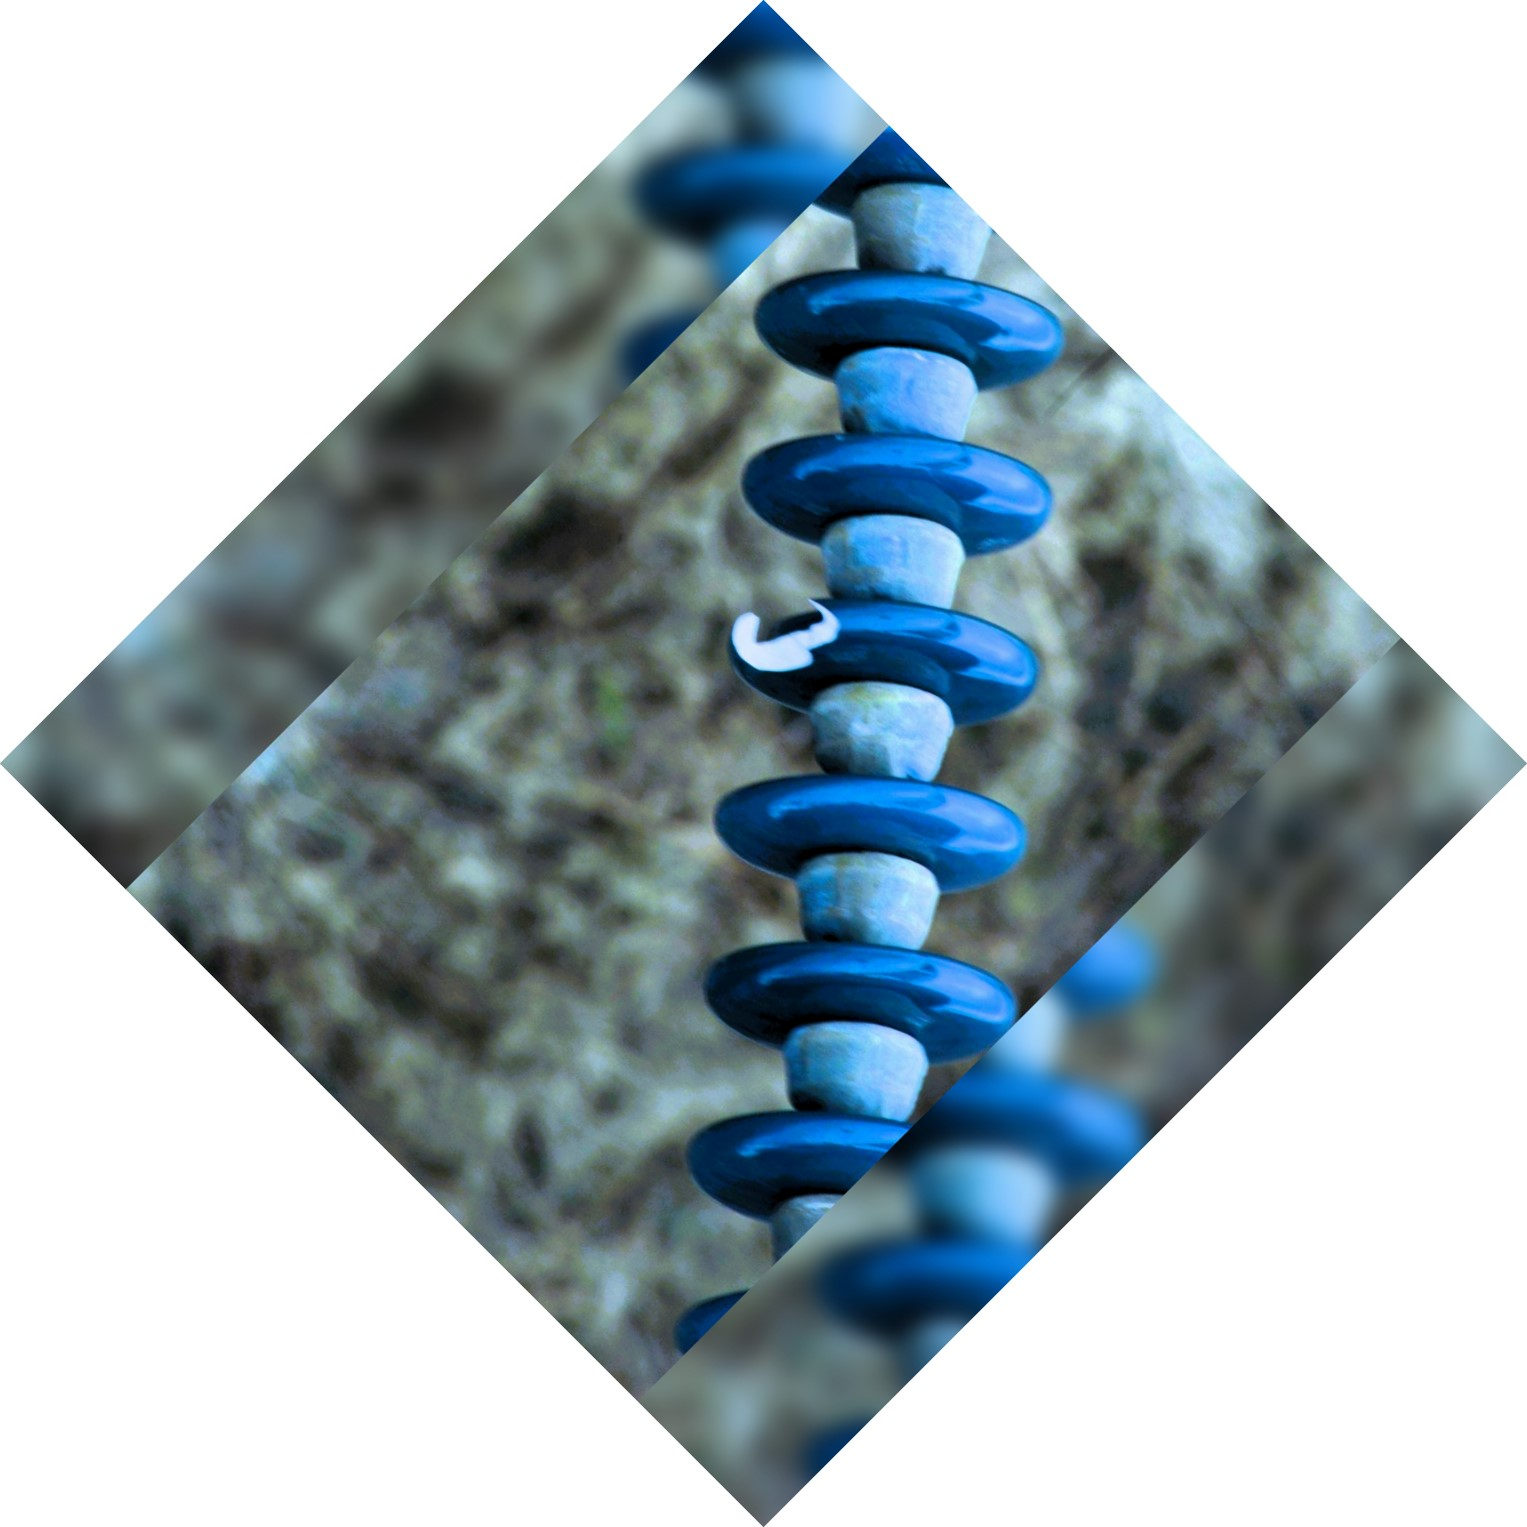insulator breakage: (712, 587, 1066, 743)
